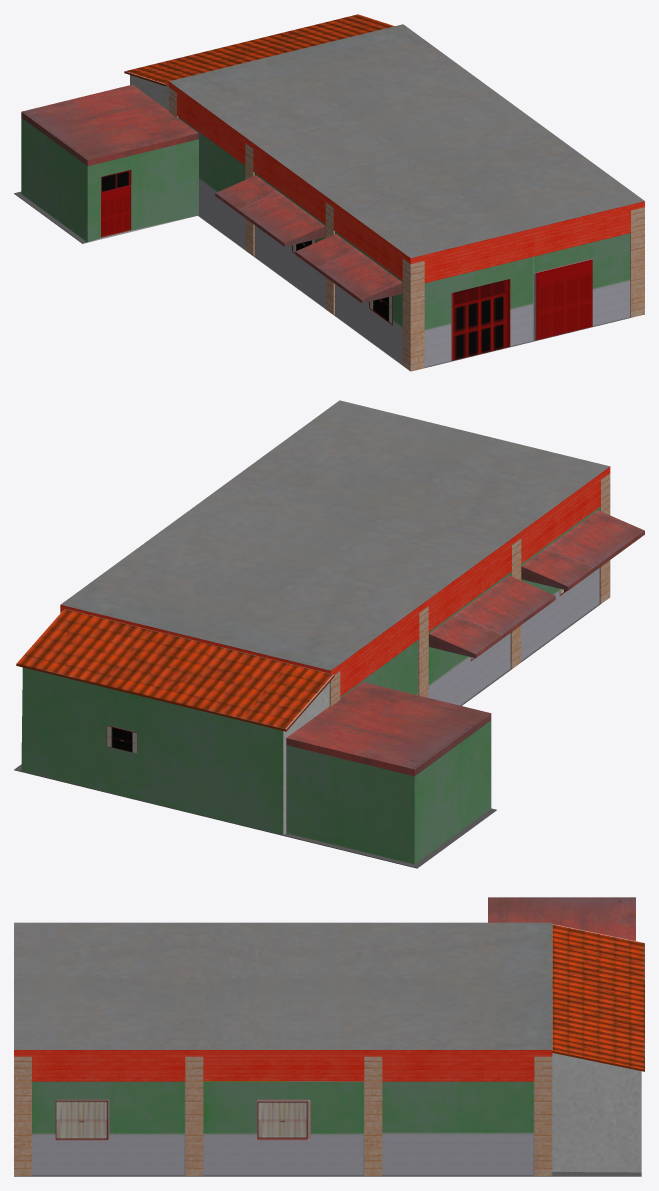
Rendered from building 30.fbx.
The picture shows the model from 3 angles, top to bottom: view 1: azimuth 30°, elevation 25°; view 2: azimuth 150°, elevation 25°; view 3: azimuth 270°, elevation 25°; orthographic projection. The views are drawn at different scales.
Visible parts, largest first — view 1: model_0; view 2: model_0; view 3: model_0.
Boxes of the visible parts, x1=… form: model_0: x1=14, y1=14, x2=644, y2=371; model_0: x1=14, y1=400, x2=644, y2=868; model_0: x1=14, y1=897, x2=644, y2=1176.
Bounding box in the file's own units: 15050 × 4691 × 21160.
